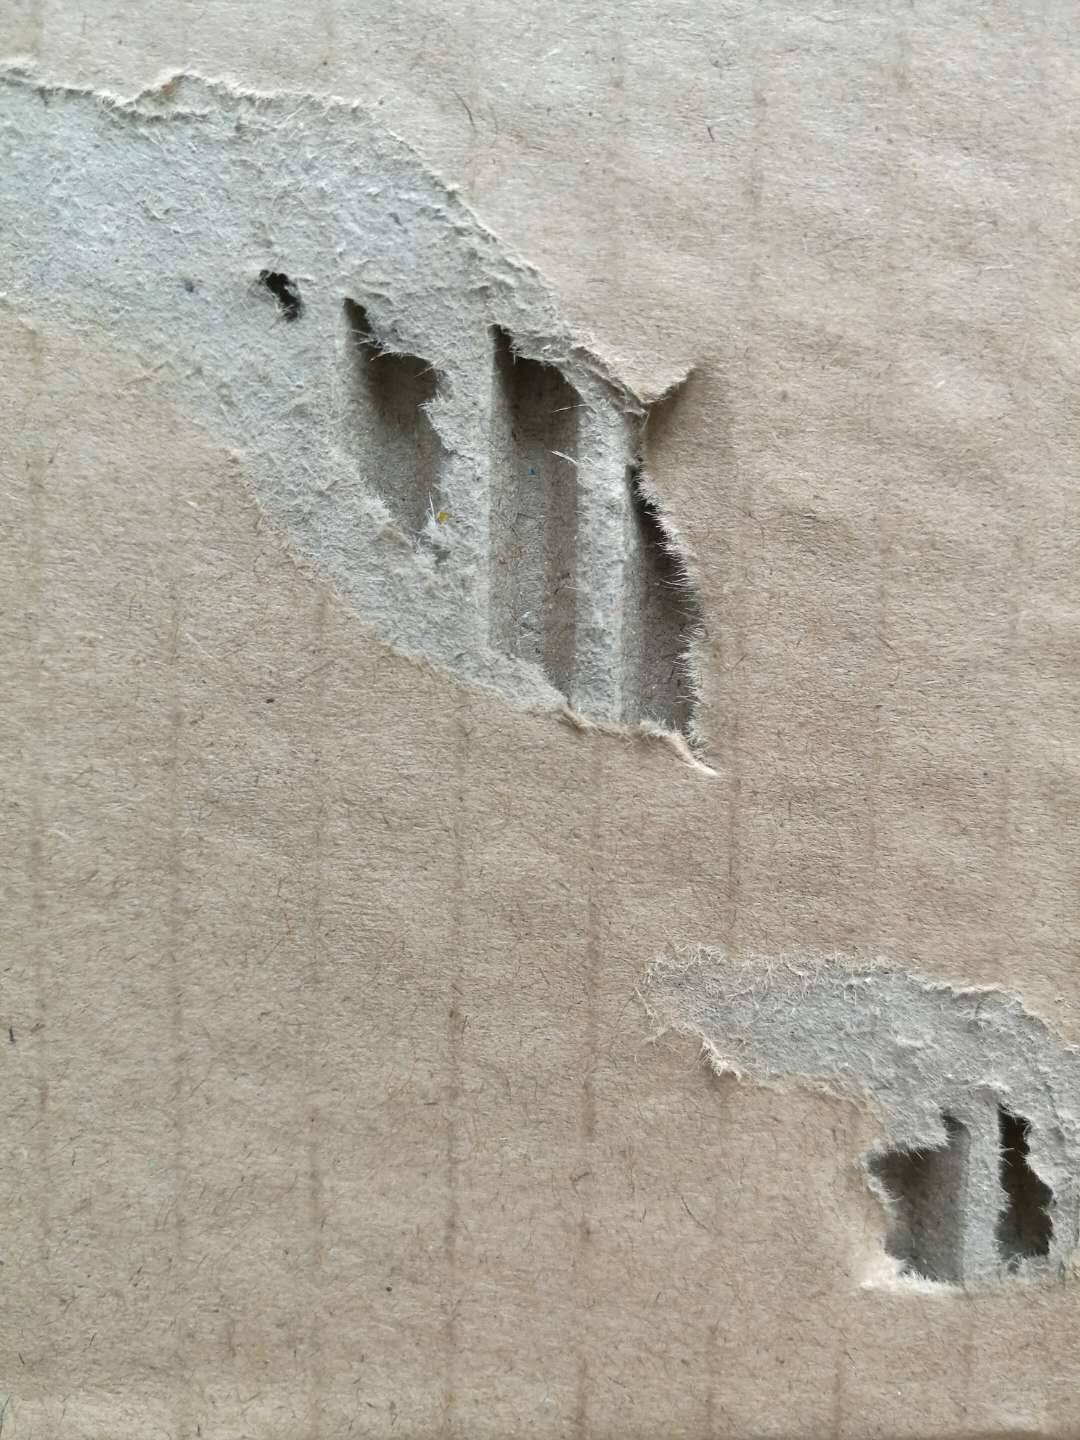defect: (3, 22, 774, 816), (611, 912, 1080, 1342)
